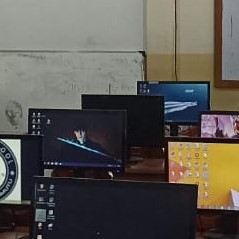monitor: (30, 176, 198, 236), (28, 108, 127, 175), (167, 138, 239, 214), (81, 94, 165, 147), (136, 81, 211, 137), (0, 134, 43, 206), (199, 111, 239, 139)
